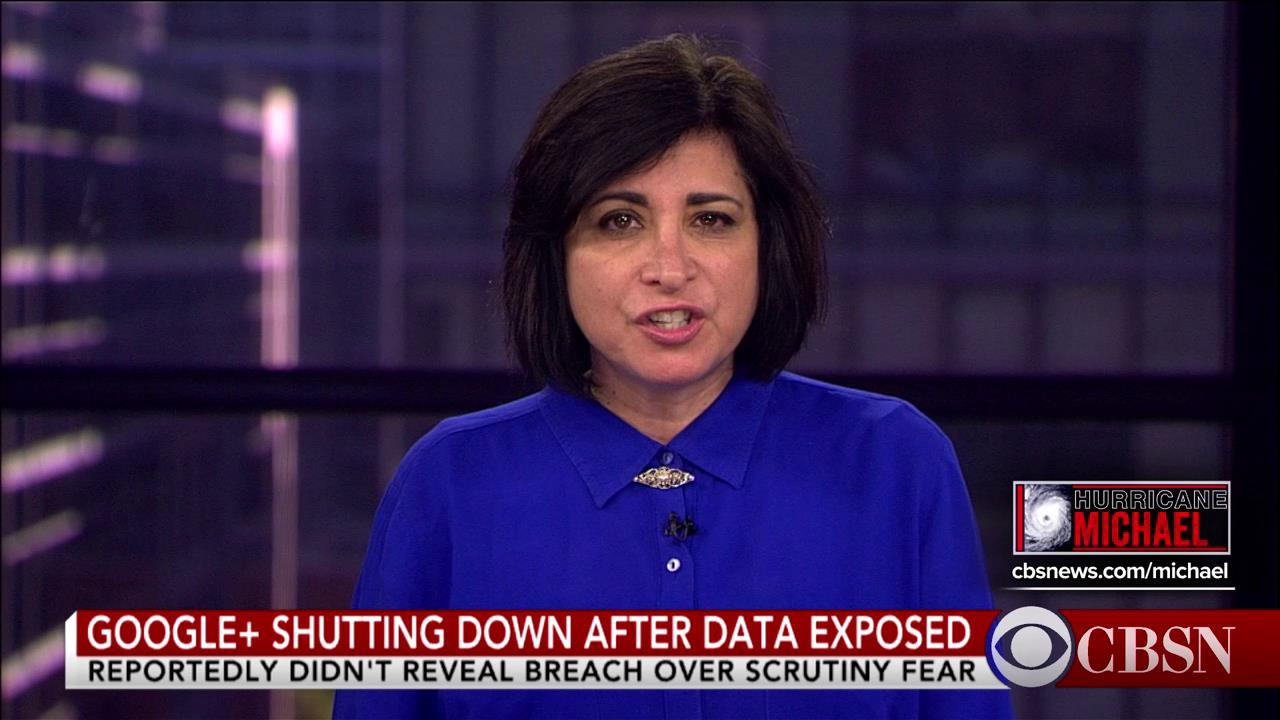CBSN: (1075, 620, 1238, 677)
GOOGLE+ SHUTTING DOWN AFTER DATA EXPOSED: (84, 609, 974, 651)
HURRICANE: (1072, 484, 1227, 512)
MICHAEL: (1071, 508, 1208, 548)
REPORTEDLY DIDN'T REVEAL BREACH OVER SCRUTINY FEAR: (84, 654, 979, 685)
cbsnews.com/michael: (1010, 559, 1229, 581)
